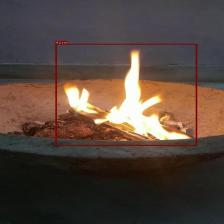fire: (55, 44, 197, 146)
